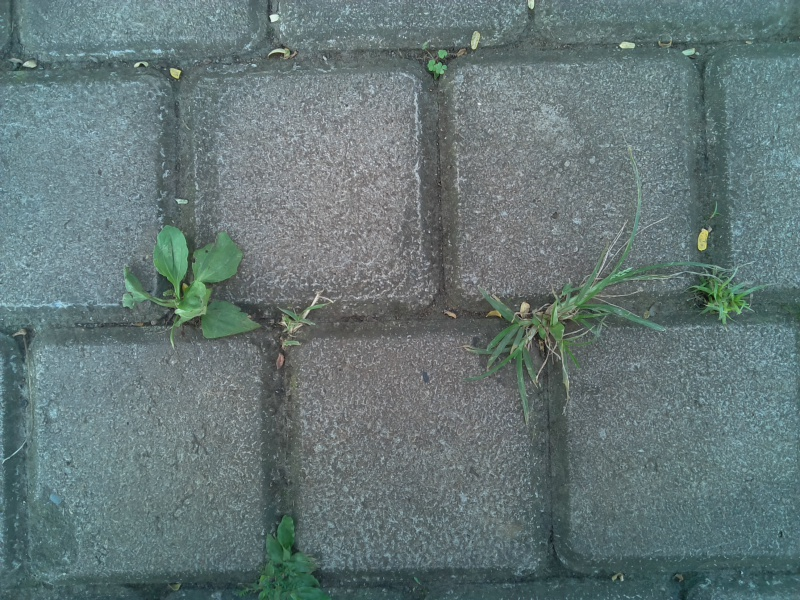Weed: (473, 164, 653, 413), (123, 224, 253, 341), (245, 516, 330, 600), (692, 260, 760, 327), (275, 292, 329, 341), (424, 43, 457, 80)
